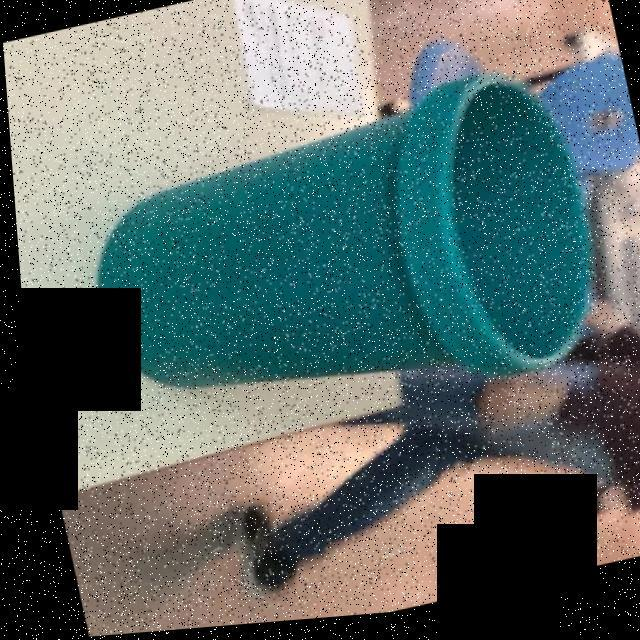bin: (2, 0, 640, 523)
